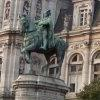Statue: (10, 12, 76, 71)
